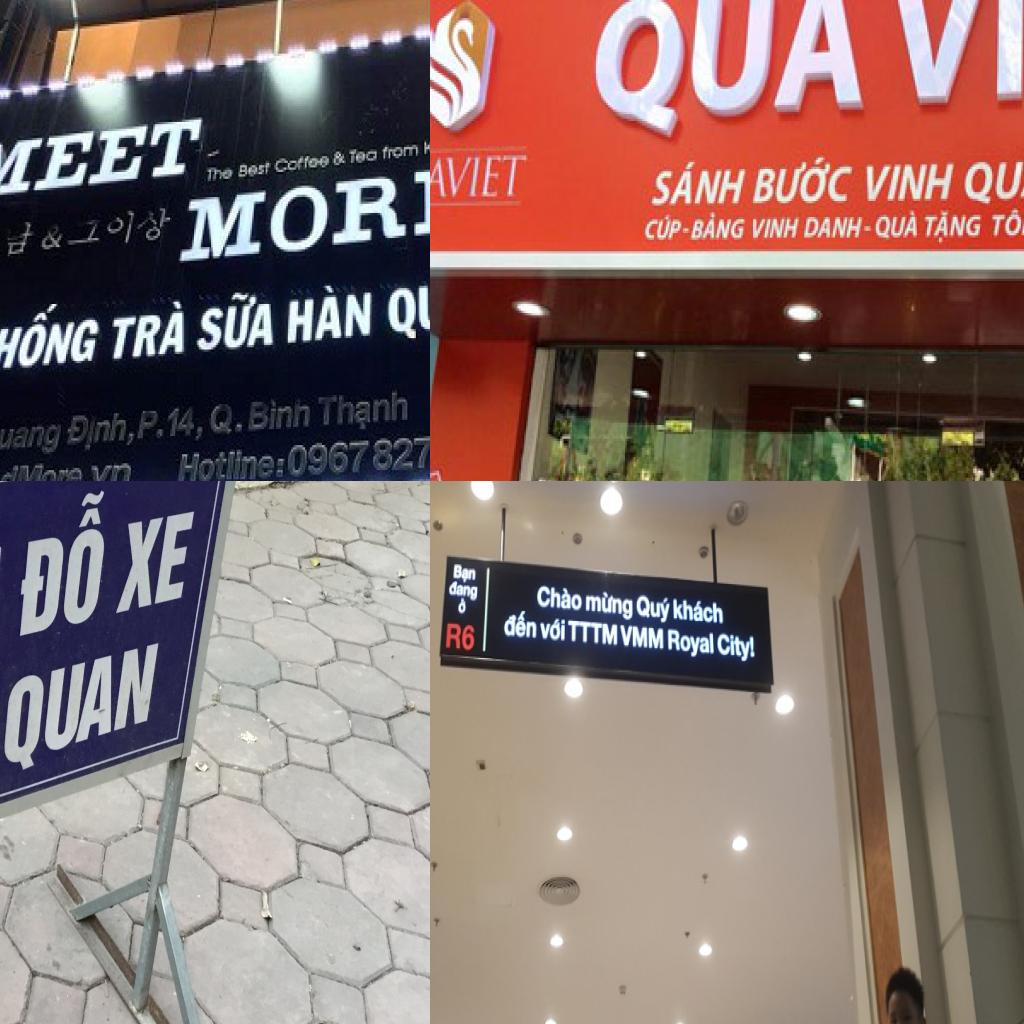text: (592, 0, 875, 144), (178, 160, 430, 265), (872, 0, 1024, 146), (0, 115, 206, 203), (16, 486, 109, 642), (112, 505, 196, 619), (0, 297, 108, 376), (286, 429, 430, 481), (430, 146, 529, 212), (751, 149, 857, 210), (286, 281, 375, 347), (194, 288, 276, 356), (646, 155, 750, 208), (105, 300, 189, 363), (857, 158, 961, 206), (210, 395, 314, 441), (317, 388, 411, 436), (175, 447, 287, 481), (387, 256, 430, 344), (61, 411, 141, 454), (966, 153, 1024, 208), (134, 406, 206, 448), (0, 415, 67, 460), (924, 210, 986, 247), (801, 212, 867, 244), (584, 588, 635, 624), (691, 212, 748, 244), (671, 595, 725, 628), (666, 628, 716, 661), (752, 214, 802, 246), (876, 208, 920, 244), (537, 580, 583, 614), (568, 618, 618, 647), (717, 630, 757, 666), (273, 152, 332, 176), (635, 590, 672, 626), (619, 624, 664, 652), (988, 210, 1024, 244), (443, 618, 477, 654), (645, 212, 683, 244), (502, 608, 538, 641), (380, 140, 423, 163), (38, 222, 68, 254), (540, 613, 566, 645), (349, 142, 380, 168), (448, 581, 480, 604), (236, 161, 272, 181), (204, 165, 235, 186), (452, 562, 478, 586), (330, 149, 348, 170), (456, 596, 468, 616)
